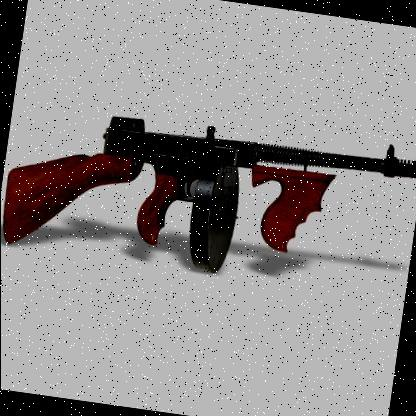rifle: (0, 73, 416, 320)
